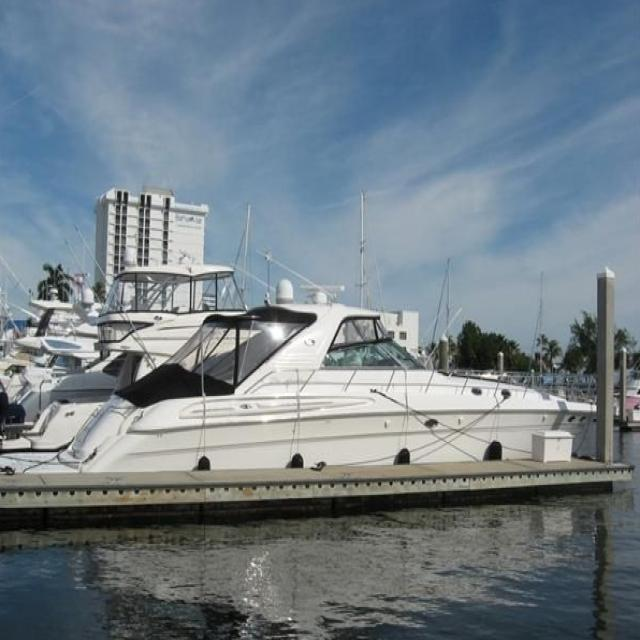houseboat: (22, 264, 594, 488)
